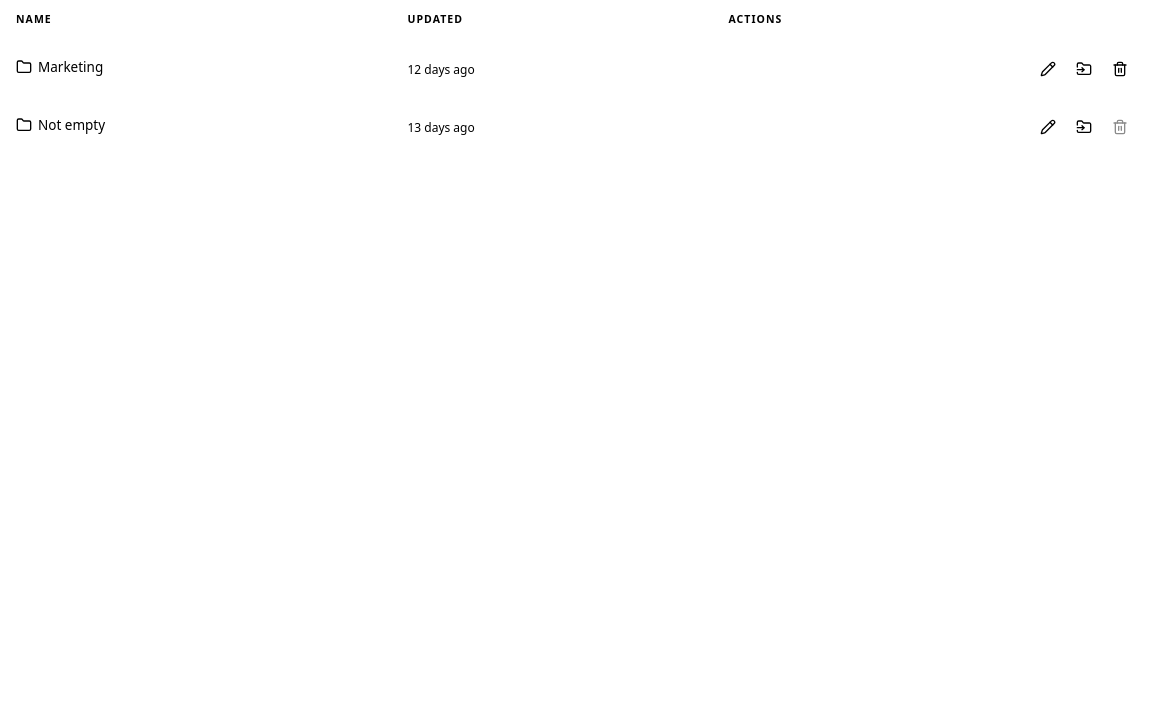
Test case: FilesTable - folders › opens the Move dialog for a folder and shows a row message when the move fails
Click the button named "Move to" in the row of "Marketing".
click(1084, 69)  # box [1068, 53, 1100, 85]
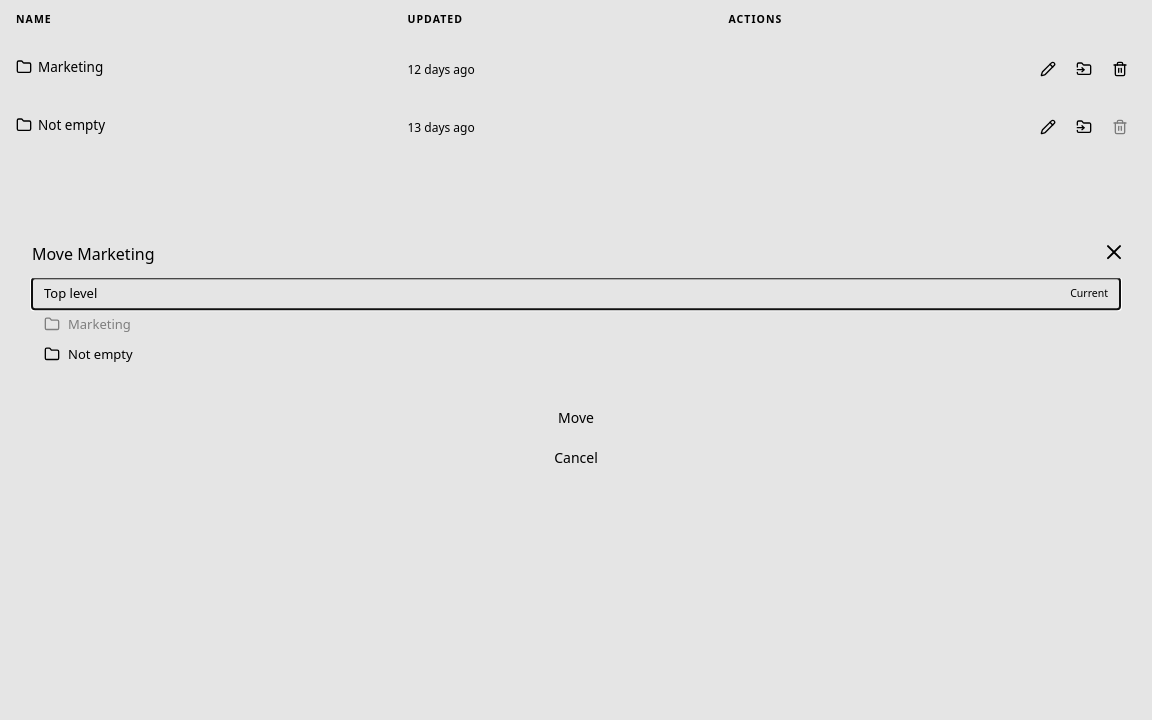
Expected: the heading "Move Marketing" is shown, [32, 243, 154, 265]
Click the button "Move".
click(576, 418)  # box [32, 402, 1120, 434]
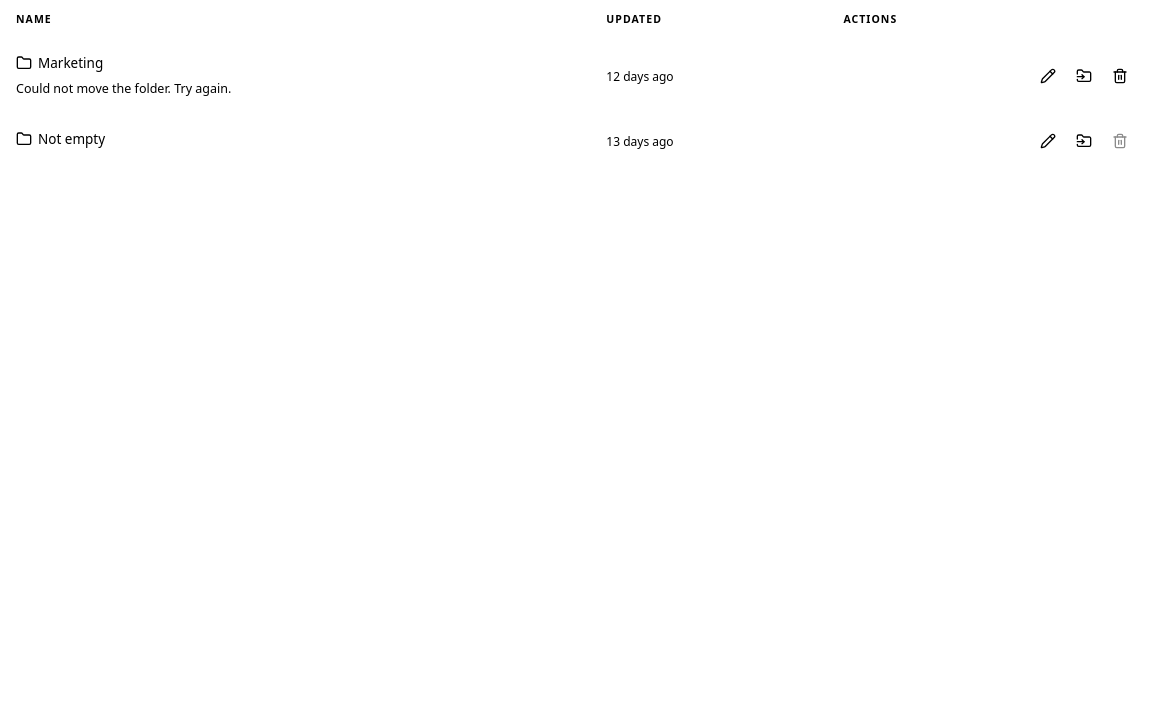
Expected: the message reads "Could not move the folder. Try again.", [16, 80, 231, 97]
